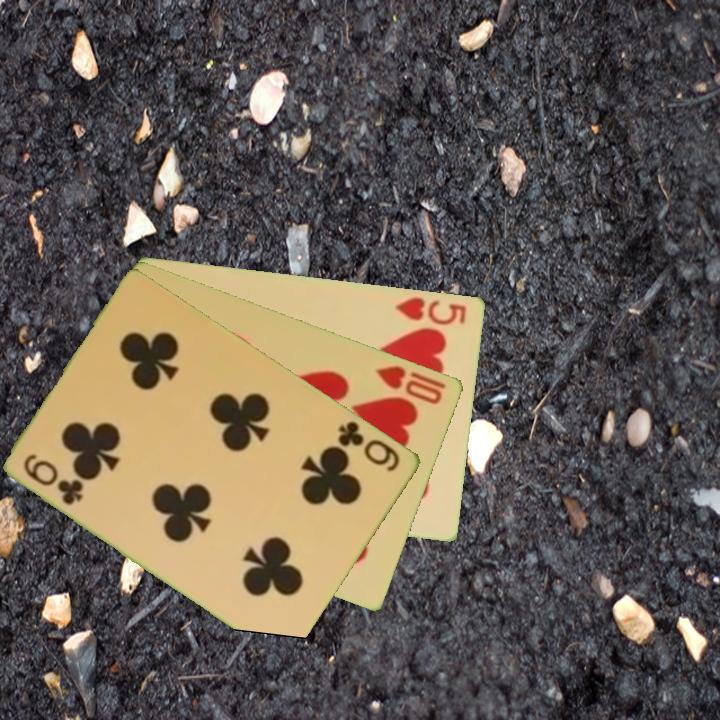10h: (372, 361, 450, 407)
5h: (392, 293, 470, 328)
6c: (334, 417, 404, 475), (20, 450, 87, 508)
